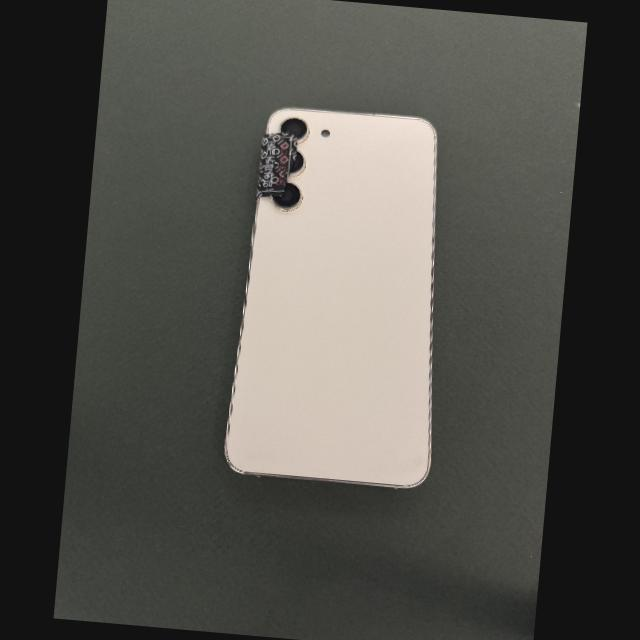lens: (272, 183, 301, 210), (280, 118, 308, 142), (289, 151, 304, 177)
phone: (225, 108, 436, 488)
sticker: (254, 132, 298, 203)
